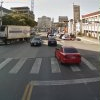crosswalk: (0, 56, 97, 73)
